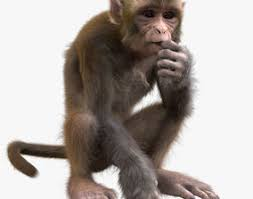monkey: (14, 3, 226, 198)
